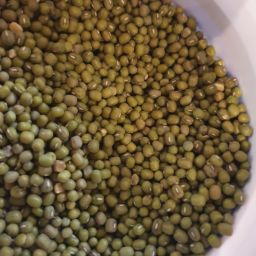Green gram dal(moong): (44, 60, 226, 208), (60, 3, 139, 256), (129, 2, 207, 256), (2, 3, 66, 256), (214, 10, 256, 256)
